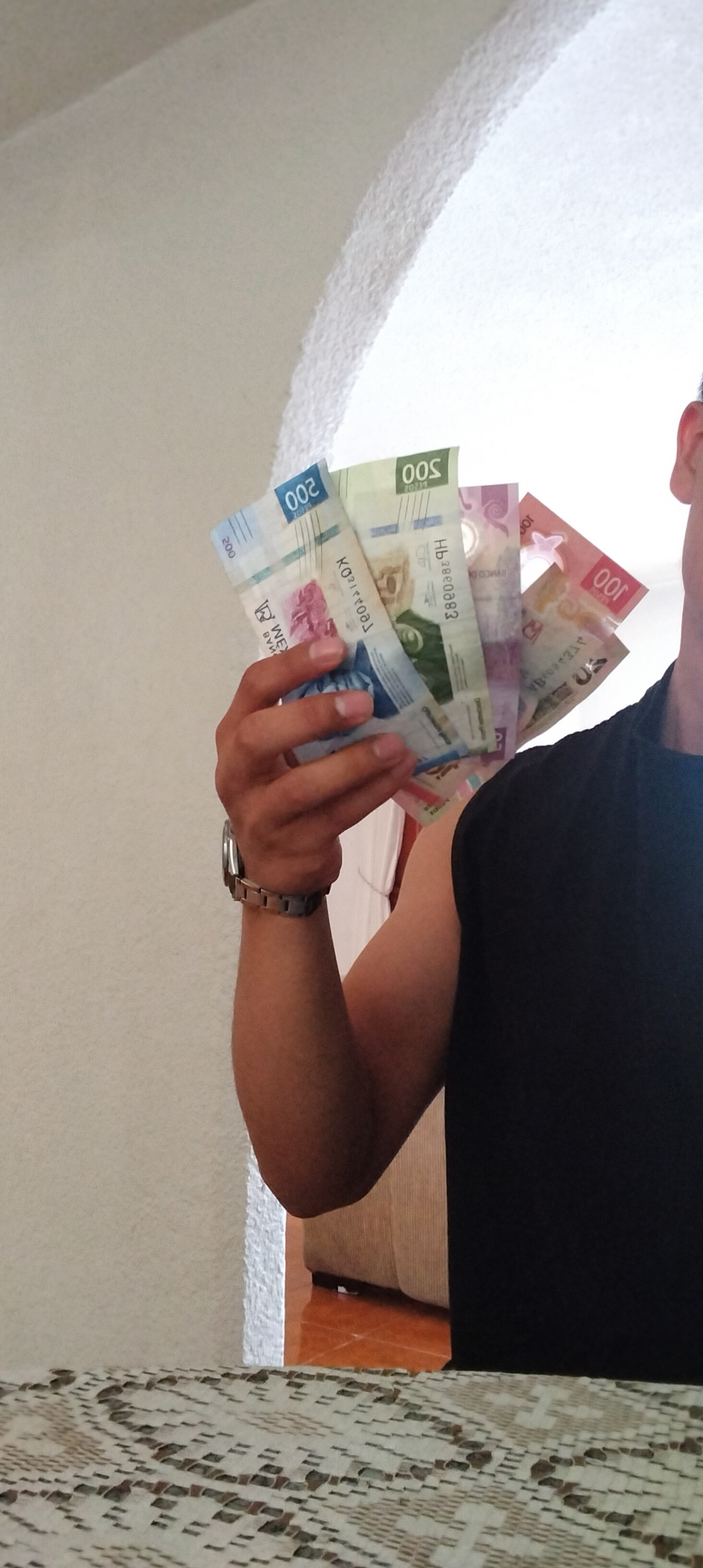billetes: (154, 430, 653, 831)
